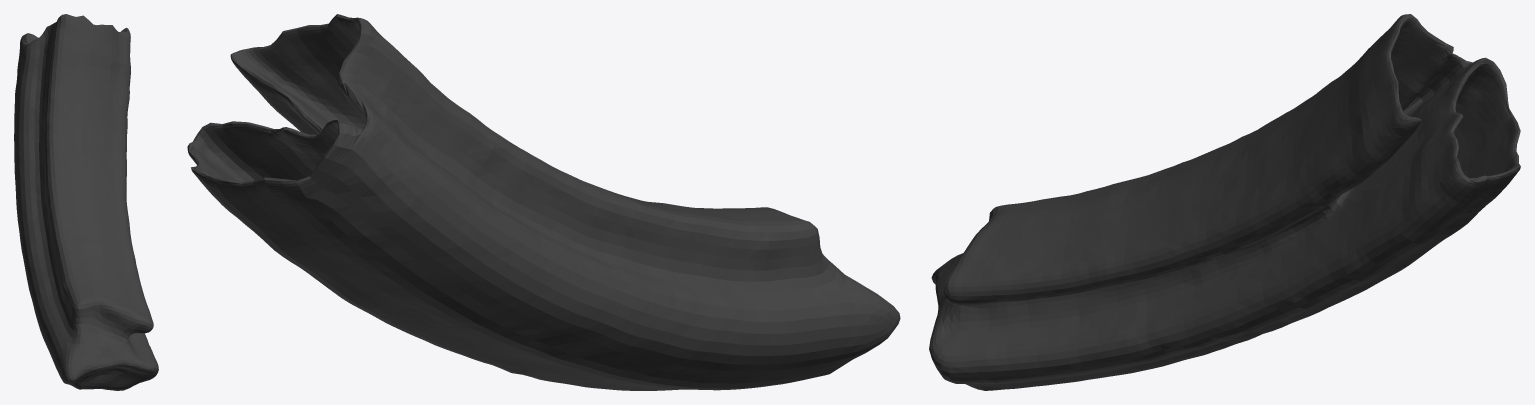
File: tooth_rabbit_310_low.glb
3 views of the same model, side by side, from view 1: azimuth 30°, elevation 25°; view 2: azimuth 150°, elevation 25°; view 3: azimuth 270°, elevation 25° (orthographic). The views are drawn at different scales.
Parts seen in each view (by area): view 1: tooth_rabbit_310_low; view 2: tooth_rabbit_310_low; view 3: tooth_rabbit_310_low.
Boxes of the visible parts, x1,y1,x2,y2 form: tooth_rabbit_310_low: (14,14,158,390); tooth_rabbit_310_low: (187,14,900,390); tooth_rabbit_310_low: (929,14,1520,390).
Bounding box in the file's own units: 0.6954 × 0.8308 × 1.03.
1 material, 1 textured.
